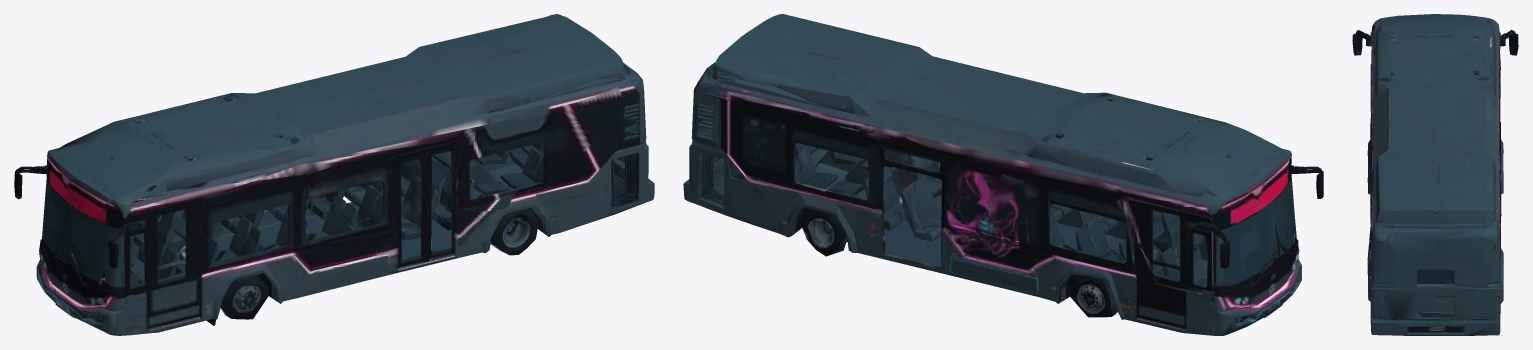
File: mx_veh_bus.glb
The picture shows the model from 3 angles, left to right: view 1: azimuth 30°, elevation 25°; view 2: azimuth 150°, elevation 25°; view 3: azimuth 270°, elevation 25°; orthographic projection. The views are drawn at different scales.
Size of the model in its own units: 1.9 by 0.5513 by 0.5983.
1 material, 1 textured.
